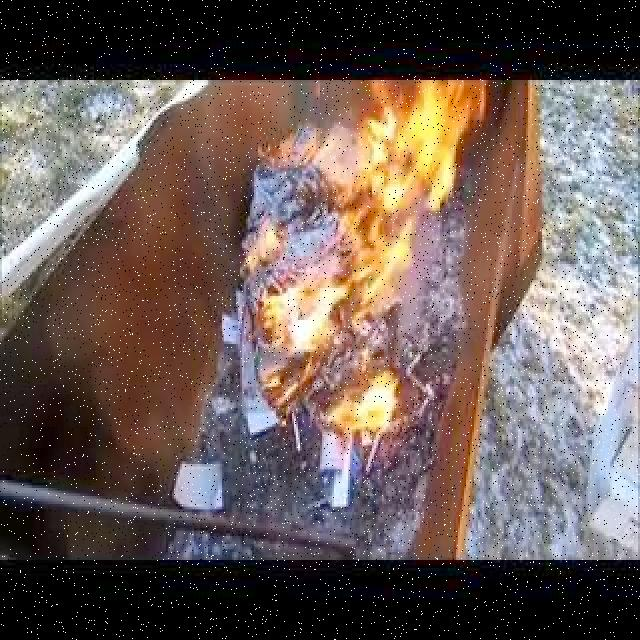fire: (350, 83, 471, 262), (262, 262, 345, 358), (335, 379, 397, 440)
